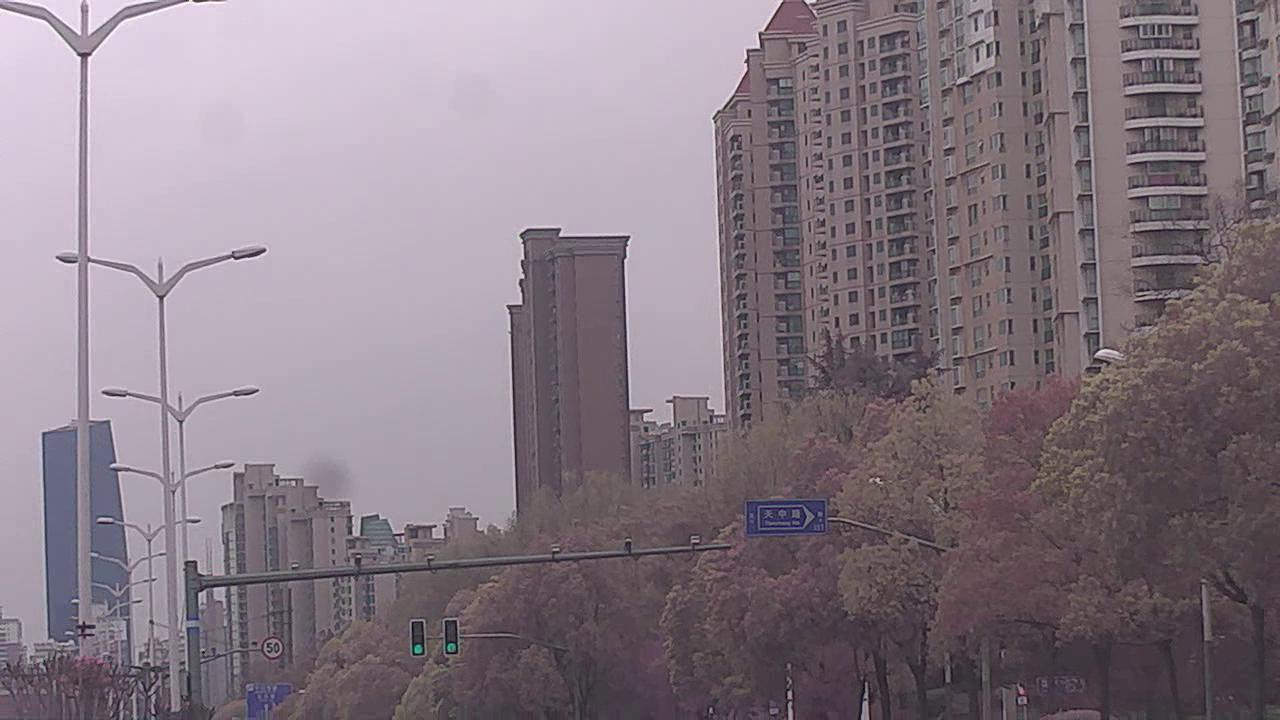traffic_light: (409, 619, 429, 656), (444, 618, 462, 656)
